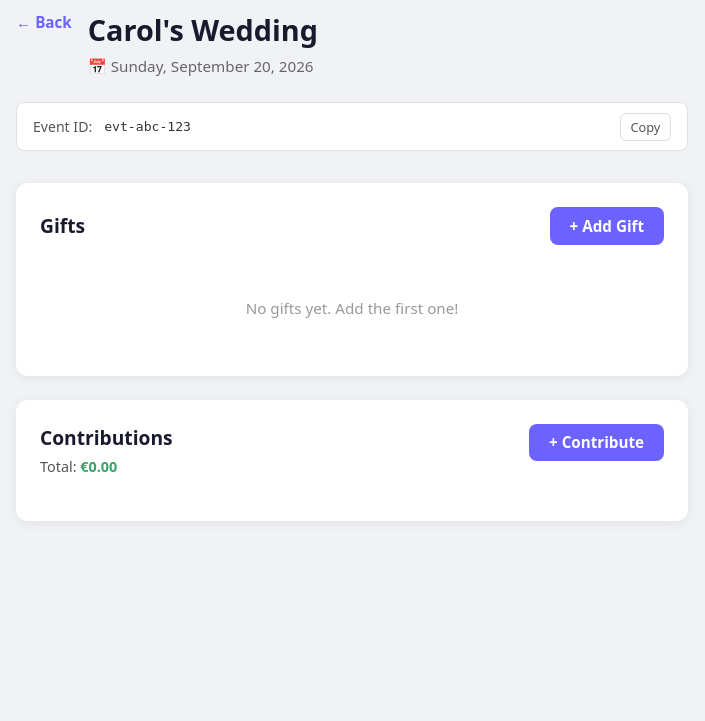
it: Event Page — contributions › shows the contribute form when clicking "+ Contribute"
Click the button with test id "EventPage__contributeBtn": point(597, 443) [529,424,664,462]
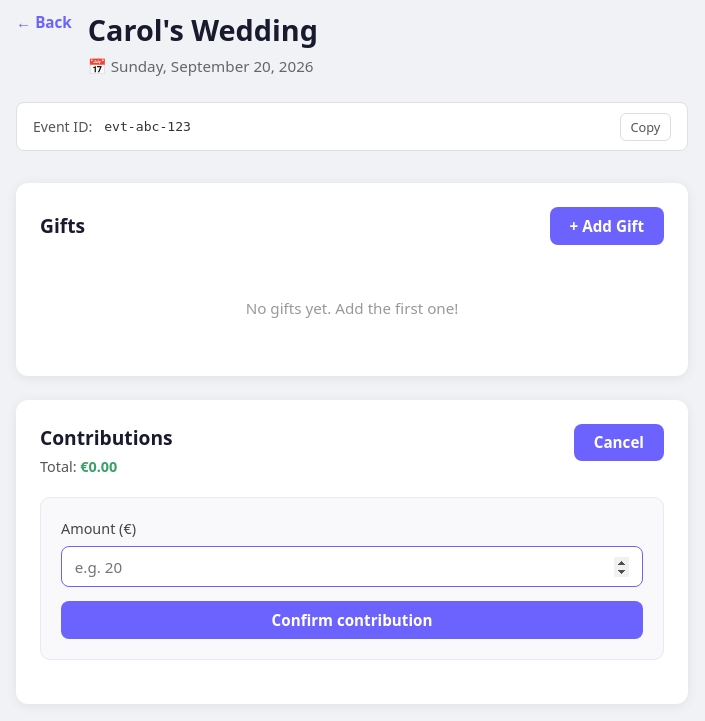
Expected: the form with test id "EventPage__contributeForm" is shown, [40,497,664,659]
Expected: the number field with test id "EventPage__contributeAmountInput" is shown, [61,546,643,587]
